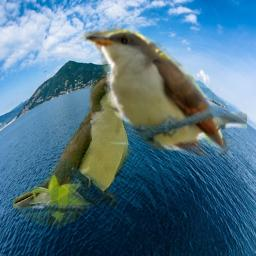Cuckoo: (79, 18, 247, 157), (13, 70, 147, 228)
